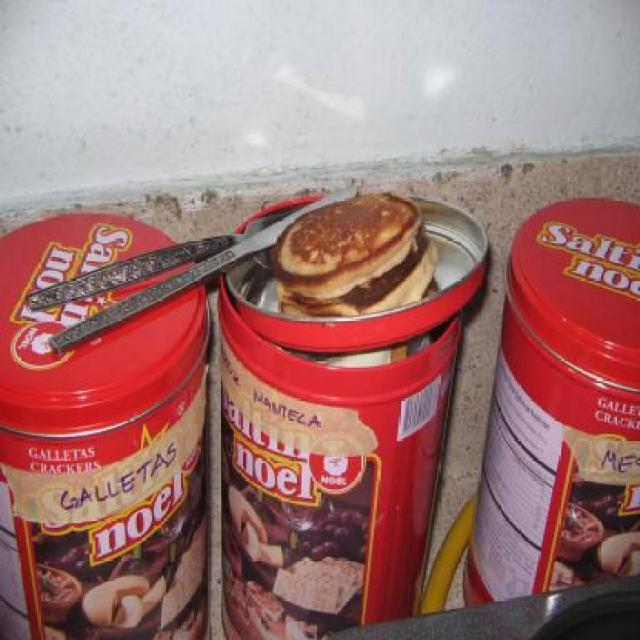Pancake: (259, 205, 430, 306)
